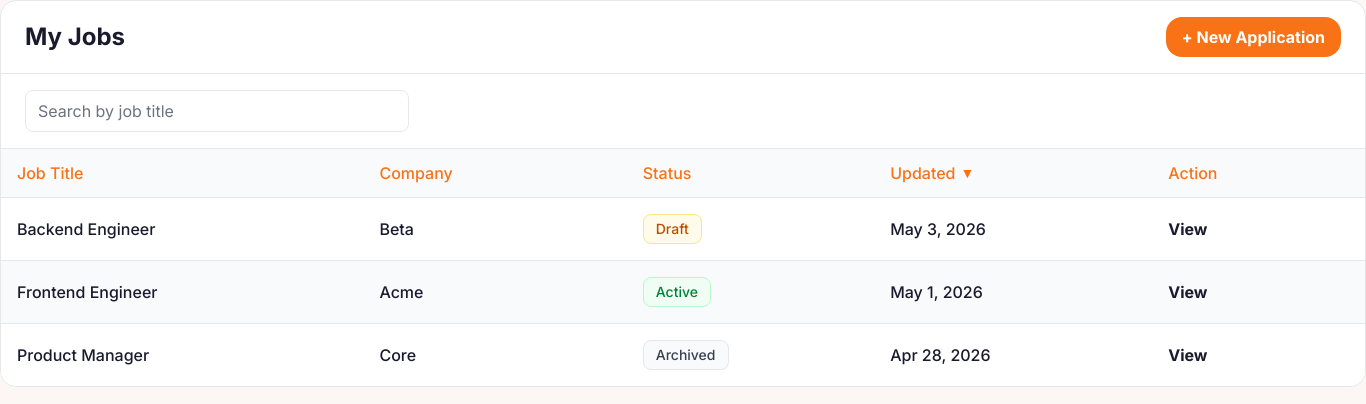
Test: JobsTable › filters full-list rows by job title and shows the empty-search state
Type "front" into the search field with test id "jobs-table-search" at [217, 111], box [25,90,409,132]
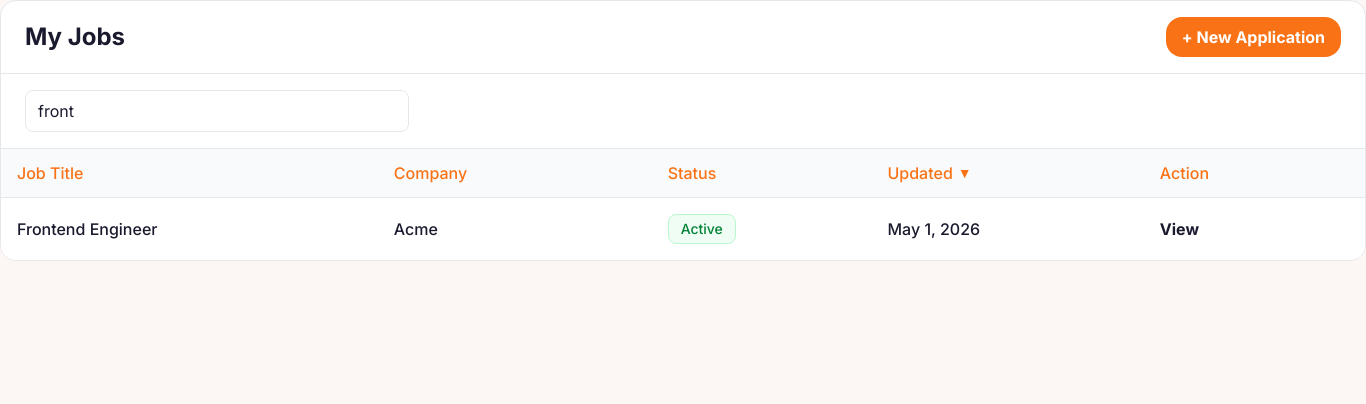
Expected: the row with test id "job-row-job-1" is shown, [1,198,1365,260]
Expected: the row with test id "job-row-job-2" is gone
Replace the text in the search field with test id "jobs-table-search" with "legal" at [217, 111], box [25,90,409,132]
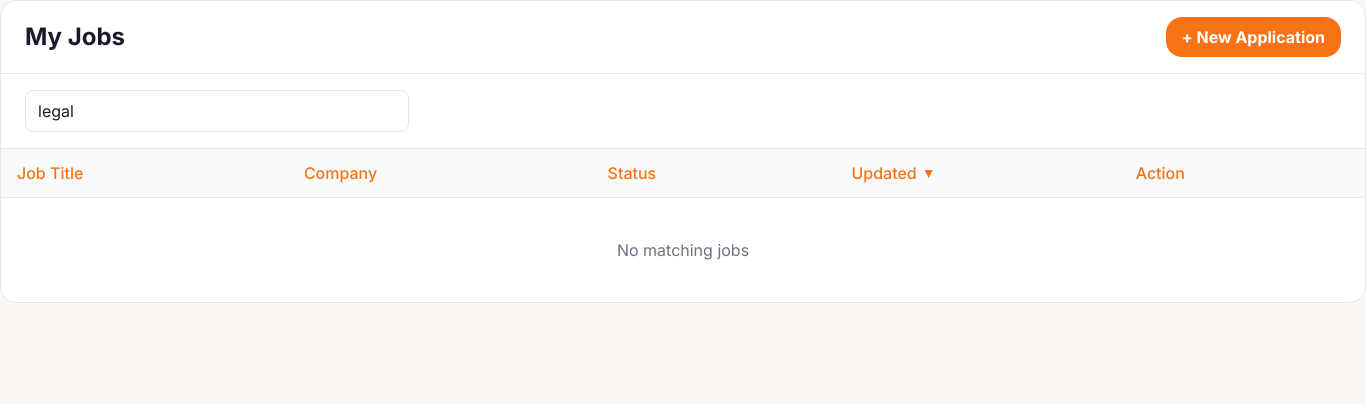
Expected: the text "No matching jobs" is shown, [617,238,749,262]
